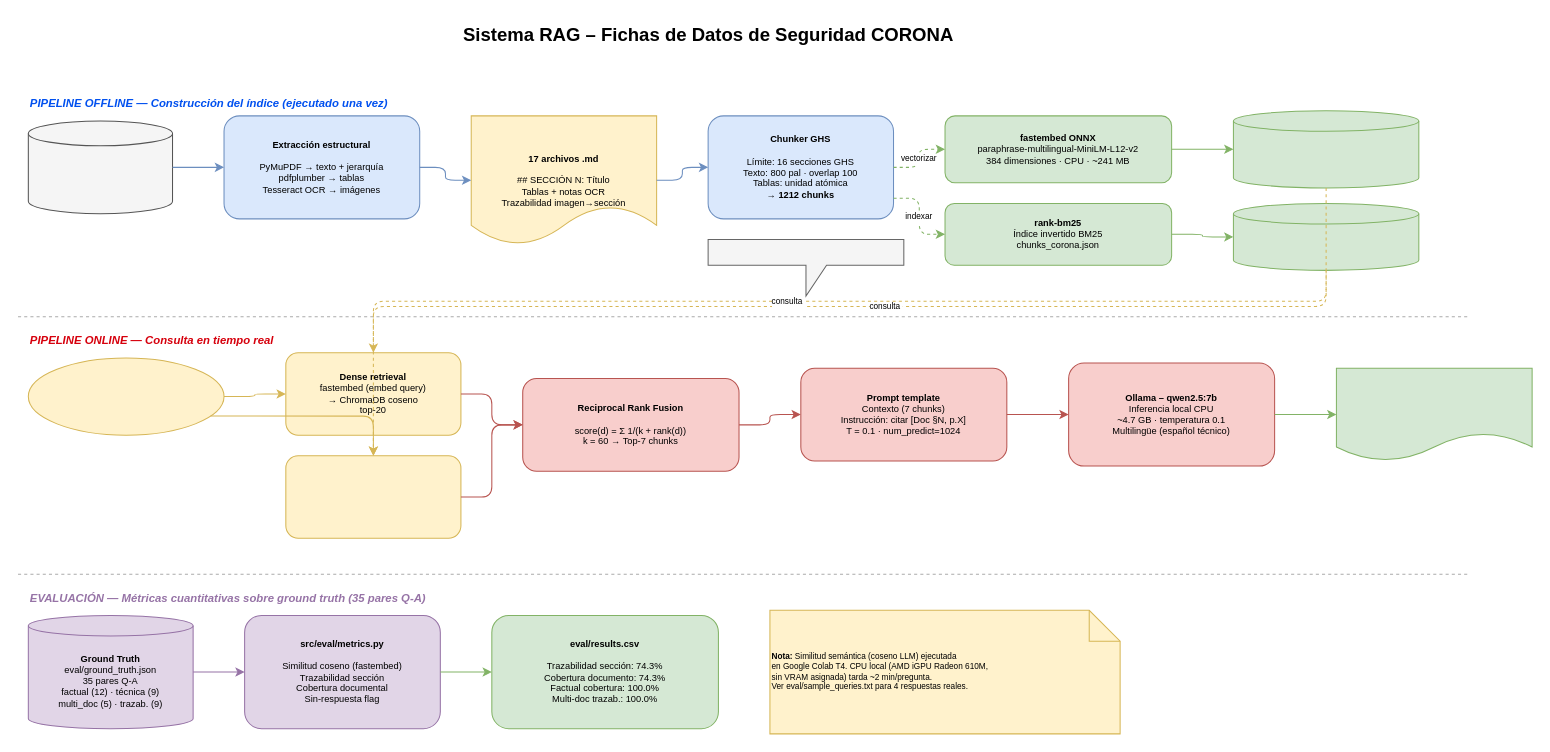
Some shapes in this 1550 by 752 pixel diagram are drawn without their labels. Here are the shapes that lost their labels. From the top down, the box of each, then its label:
(27, 120, 173, 214): 17 FDS CORONA (PDFs originales)
(1232, 110, 1419, 188): ChromaDB HNSW · similitud coseno SQLite persistente · 1212 vectores
(1232, 202, 1419, 270): BM25 Index (en memoria)
(707, 238, 904, 296): Metadatos por chunk: documento · seccion_num seccion_titulo · pagina · tipo
(27, 357, 224, 435): Consulta del usuario (lenguaje natural, español)
(1335, 367, 1532, 461): Respuesta con citas Texto + [FDS 88 §Sección 8, p.4] Verificable en PDF original
(285, 455, 461, 538): Sparse retrieval BM25 (términos exactos) → rank-bm25 top-20
